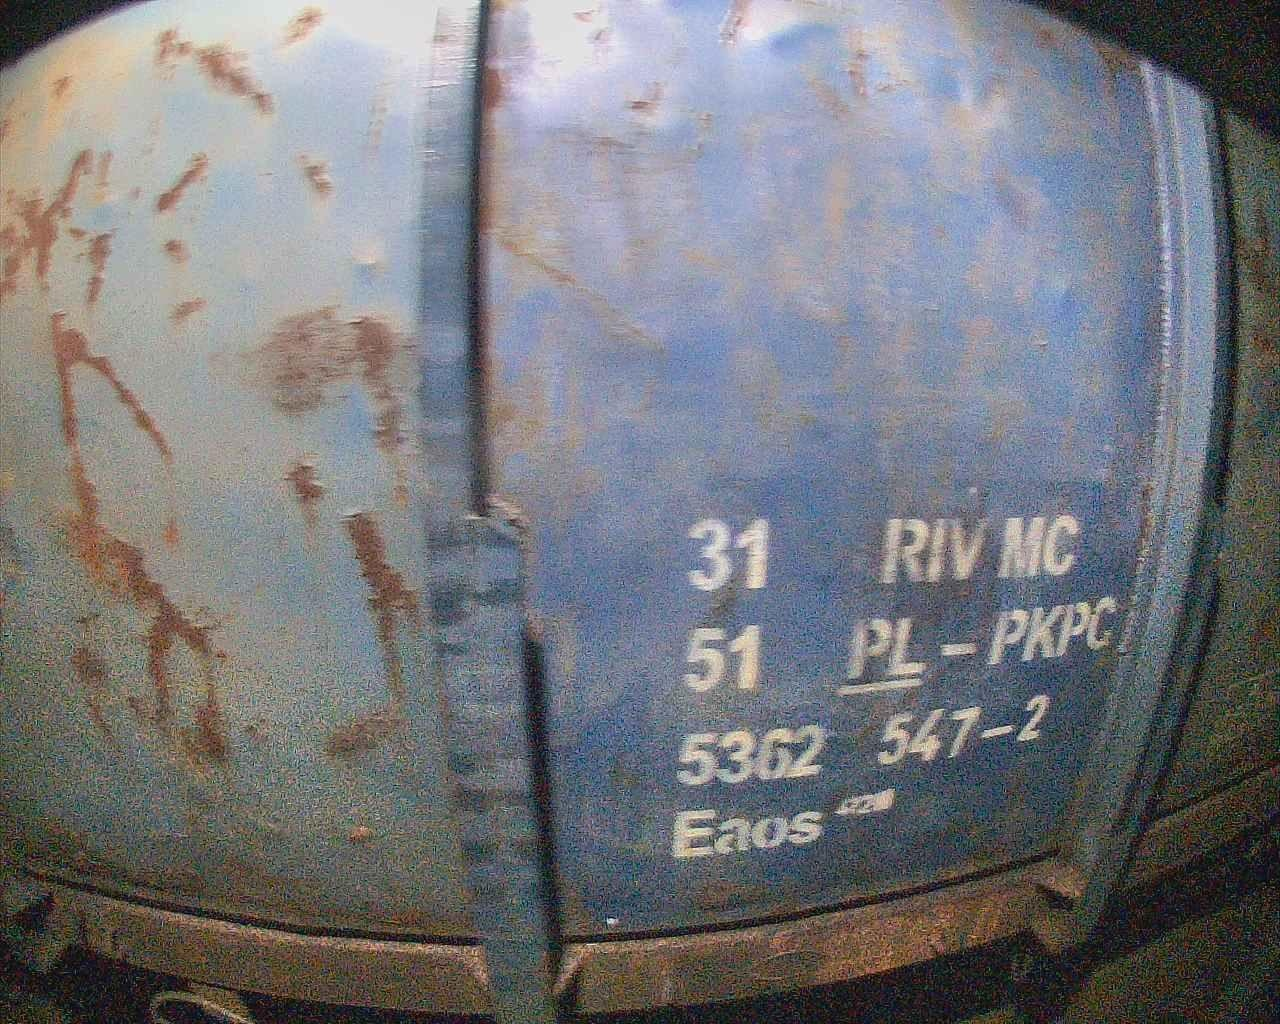UIC: (668, 512, 1120, 866)
